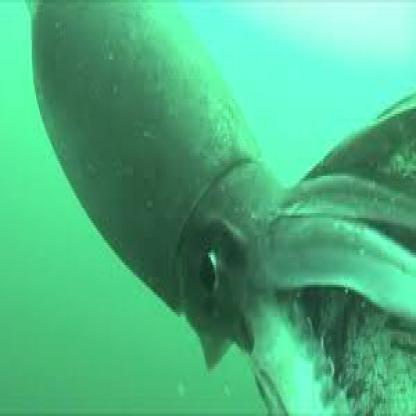colossal_squid: (14, 5, 414, 366)
